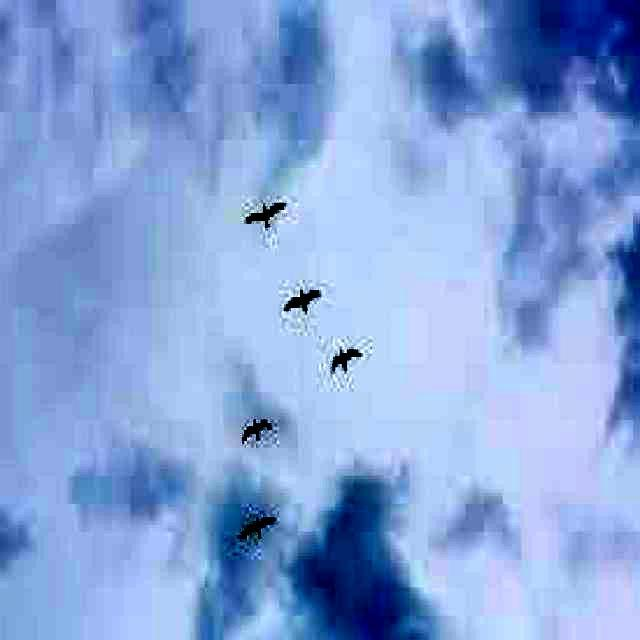bird: (274, 280, 328, 326), (246, 190, 291, 240), (238, 410, 284, 452), (232, 514, 286, 546), (328, 336, 368, 379)
